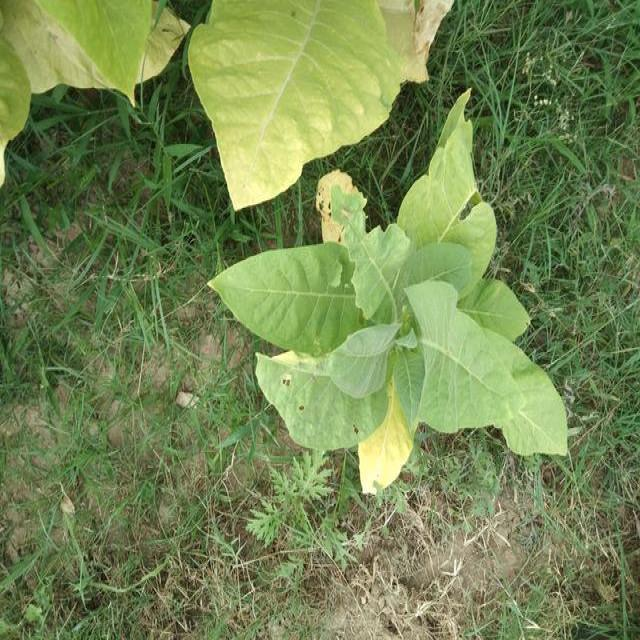crop: (206, 95, 586, 501)
